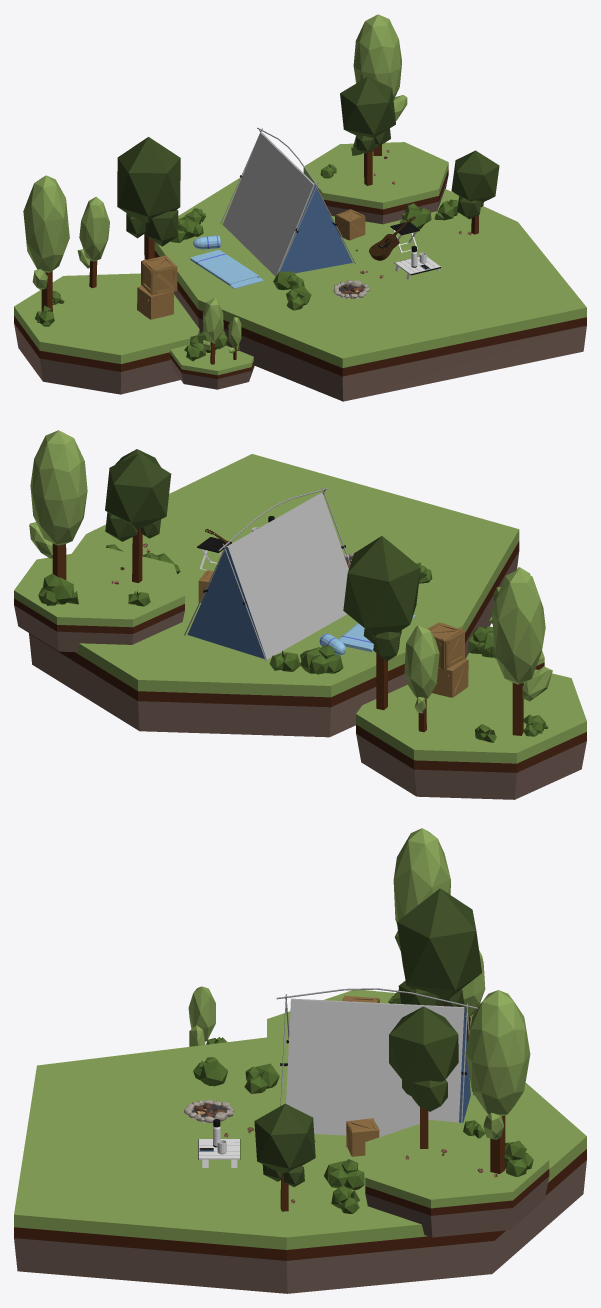
Rendered from camp.glb.
3 views of the same model, one above another, from view 1: azimuth 30°, elevation 25°; view 2: azimuth 150°, elevation 25°; view 3: azimuth 270°, elevation 25° (orthographic). The views are drawn at different scales.
Visible parts, largest first — view 1: defaultMaterial.012, defaultMaterial.016, defaultMaterial.006, defaultMaterial.011, defaultMaterial.014, defaultMaterial.019, defaultMaterial.005, defaultMaterial.017, defaultMaterial.003, Mesh_6.002, Campfire_1; view 2: defaultMaterial.012, defaultMaterial.006, defaultMaterial.011, defaultMaterial.016, defaultMaterial.014, defaultMaterial.017, defaultMaterial.019, defaultMaterial.005, defaultMaterial.003; view 3: defaultMaterial.012, defaultMaterial.006, defaultMaterial.016, defaultMaterial.011, defaultMaterial.014, defaultMaterial.017, defaultMaterial.019, defaultMaterial.003, Campfire_1.
Boxes of the visible parts, bbox=[...] form: defaultMaterial.012: bbox=[14, 142, 586, 401]; defaultMaterial.016: bbox=[117, 76, 499, 246]; defaultMaterial.006: bbox=[220, 127, 355, 276]; defaultMaterial.011: bbox=[23, 14, 407, 353]; defaultMaterial.014: bbox=[34, 136, 458, 361]; defaultMaterial.019: bbox=[137, 209, 365, 319]; defaultMaterial.005: bbox=[190, 235, 264, 288]; defaultMaterial.017: bbox=[41, 144, 478, 364]; defaultMaterial.003: bbox=[390, 222, 440, 280]; Mesh_6.002: bbox=[369, 216, 415, 260]; Campfire_1: bbox=[333, 280, 369, 298]; defaultMaterial.012: bbox=[14, 454, 586, 799]; defaultMaterial.006: bbox=[184, 487, 350, 661]; defaultMaterial.011: bbox=[29, 430, 552, 713]; defaultMaterial.016: bbox=[105, 449, 420, 661]; defaultMaterial.014: bbox=[38, 544, 548, 742]; defaultMaterial.017: bbox=[52, 528, 523, 735]; defaultMaterial.019: bbox=[198, 570, 468, 697]; defaultMaterial.005: bbox=[319, 615, 415, 655]; defaultMaterial.003: bbox=[197, 516, 274, 570]; defaultMaterial.012: bbox=[14, 990, 586, 1293]; defaultMaterial.006: bbox=[276, 988, 477, 1137]; defaultMaterial.016: bbox=[254, 888, 481, 1186]; defaultMaterial.011: bbox=[188, 828, 530, 1139]; defaultMaterial.014: bbox=[193, 989, 533, 1213]; defaultMaterial.017: bbox=[280, 1002, 505, 1211]; defaultMaterial.019: bbox=[342, 995, 379, 1156]; defaultMaterial.003: bbox=[198, 1119, 302, 1167]; Campfire_1: bbox=[183, 1099, 234, 1123].
Size of the model in its own units: 10.23 by 5.04 by 8.66.
